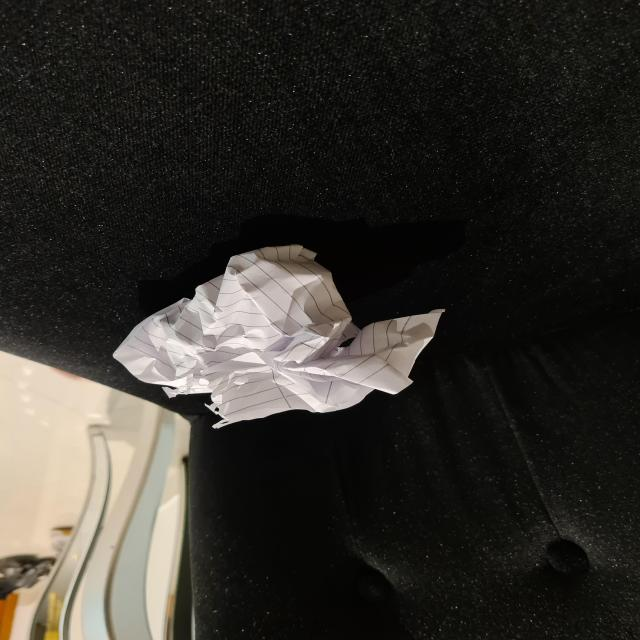kertas: (120, 240, 436, 422)
